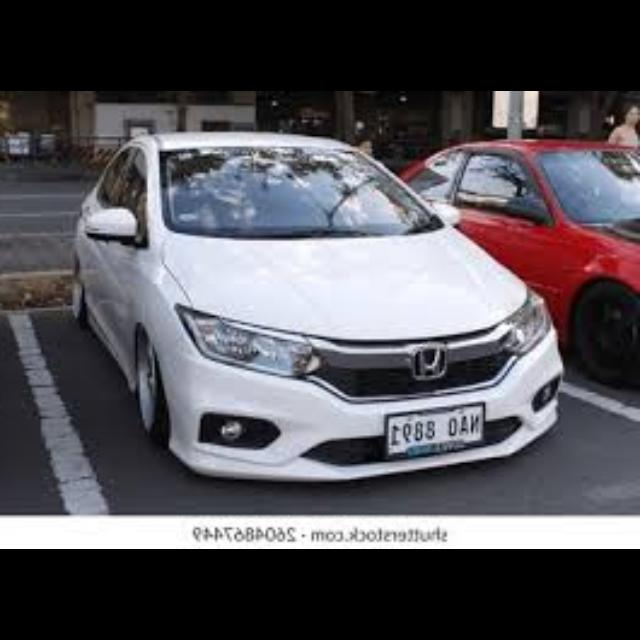vehicles: (59, 124, 565, 480), (403, 136, 637, 388)
